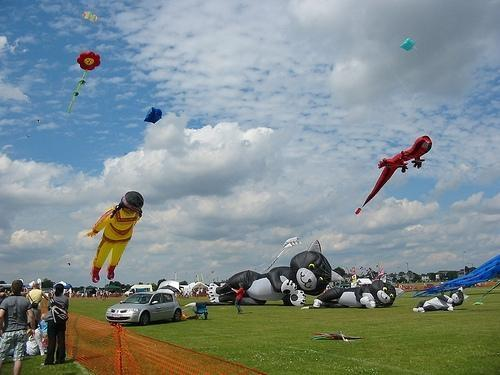car: (106, 291, 182, 325)
